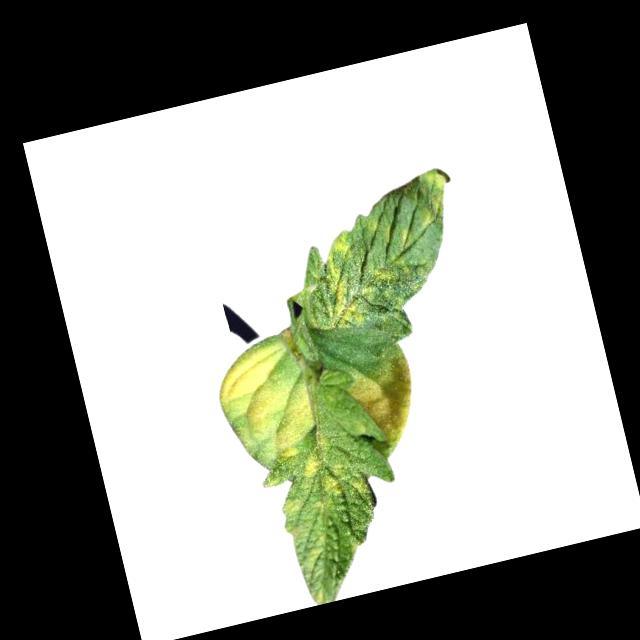Leaf_Mold: (206, 334, 324, 470), (341, 348, 426, 453), (303, 229, 372, 333), (295, 441, 371, 512), (410, 166, 455, 231), (363, 257, 412, 291)
